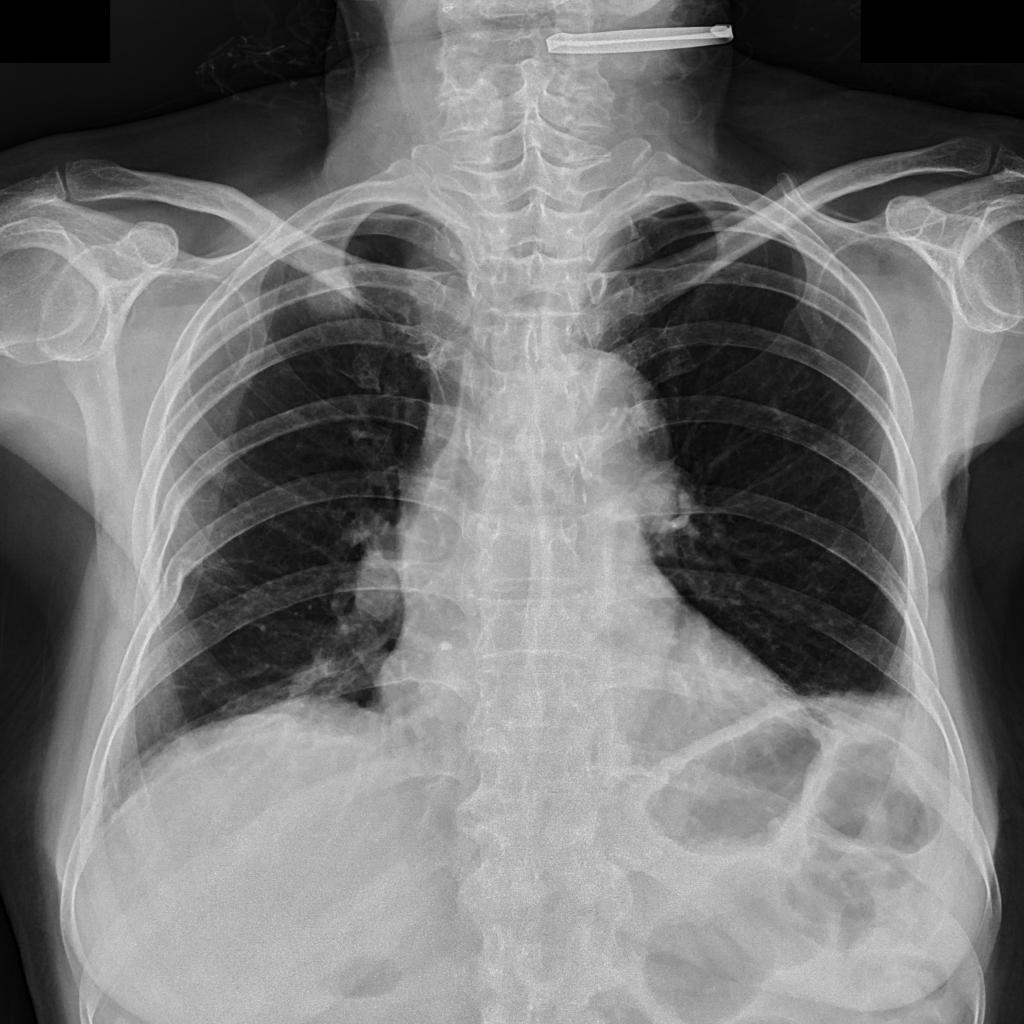Nodule: (307, 270, 357, 320)
